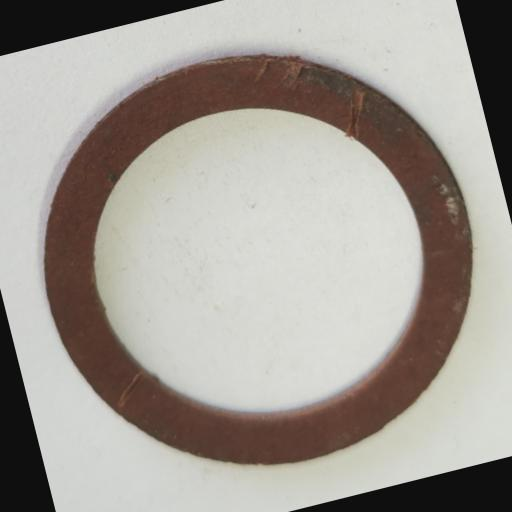defect: (338, 84, 376, 139), (110, 370, 152, 410), (268, 56, 308, 92), (248, 56, 277, 83)
